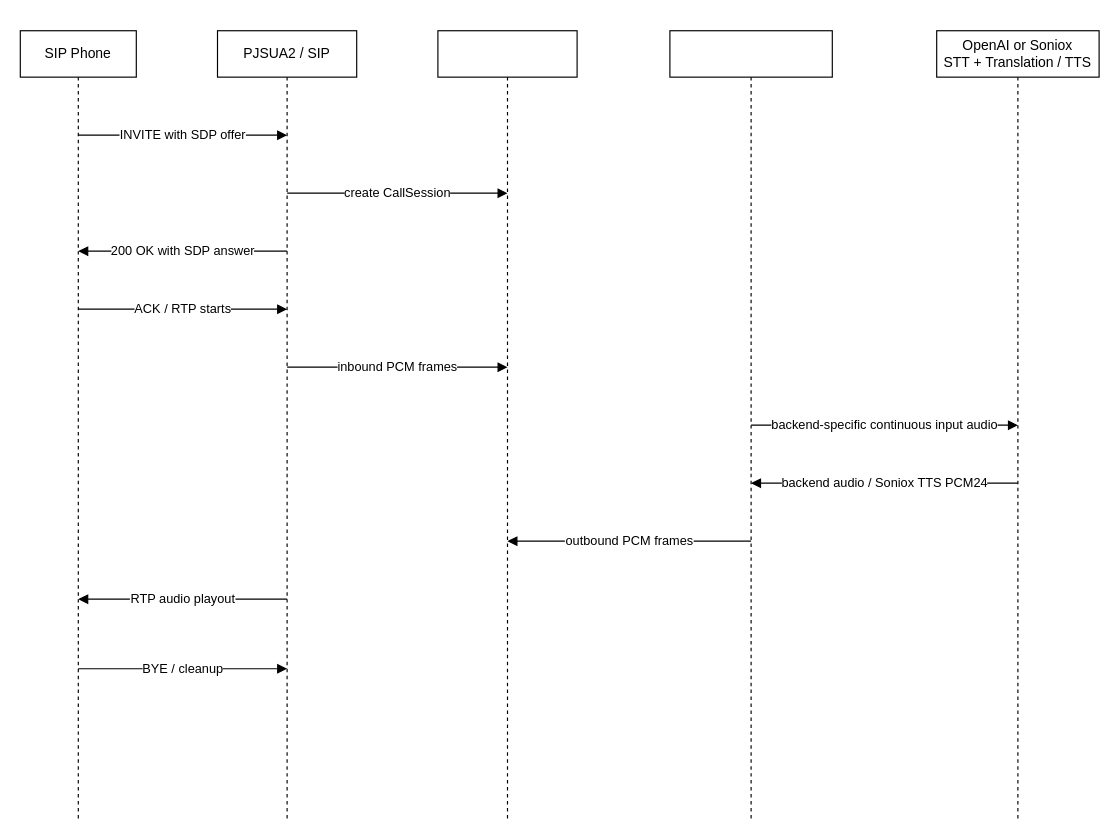
The diagram is 1119 pixels wide and 840 high, and some of its shapes have lost their labels. The box of each missing label's shape, as (x1, y1, x2, y2) in pixels:
AudioBridge: (437, 30, 577, 820)
VoiceSession Realtime / Live / Translation SonioxTranslation: (669, 30, 832, 820)
